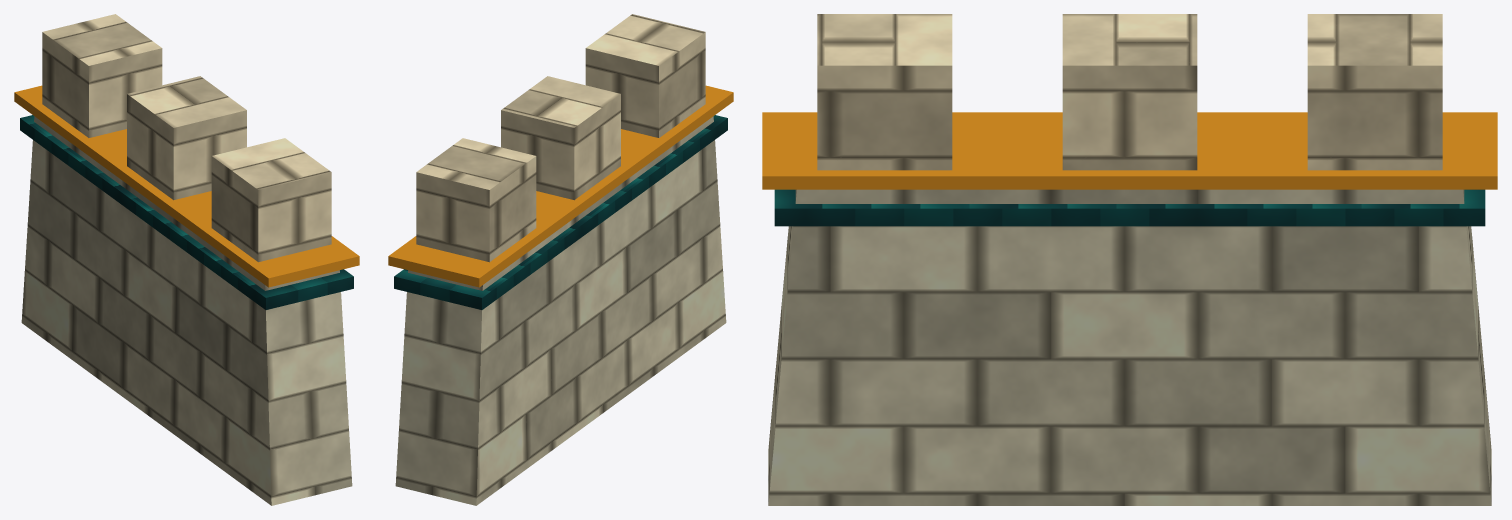
Rendered from keep_wall_span.glb.
The picture shows the model from 3 angles, left to right: view 1: azimuth 30°, elevation 25°; view 2: azimuth 150°, elevation 25°; view 3: azimuth 270°, elevation 25°; orthographic projection. The views are drawn at different scales.
Parts seen in each view (by area): view 1: keep_wall_span; view 2: keep_wall_span; view 3: keep_wall_span.
Part boxes in pixels (x1,y1,x2,y2): keep_wall_span: [14, 14, 359, 505]; keep_wall_span: [388, 14, 733, 505]; keep_wall_span: [762, 14, 1497, 505].
Bounding box in the file's own units: 0.62 × 1.97 × 3.
Materials: 3 (2 with a texture image).
